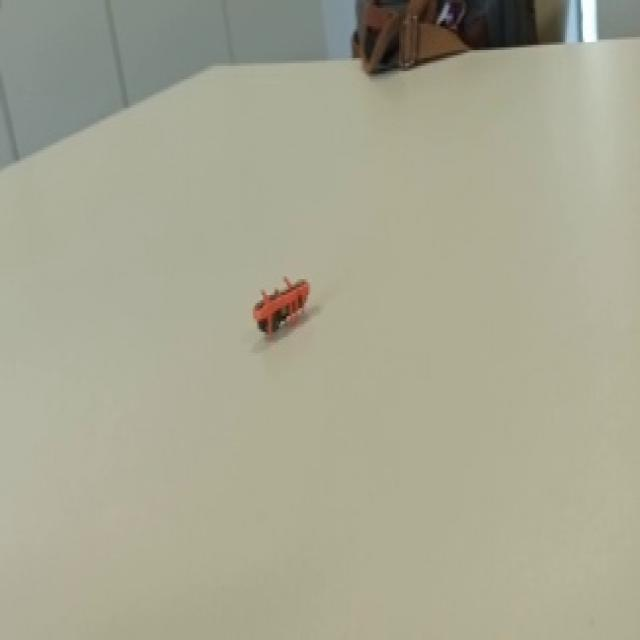7_NanoBug_Naranja: (241, 272, 323, 351)
